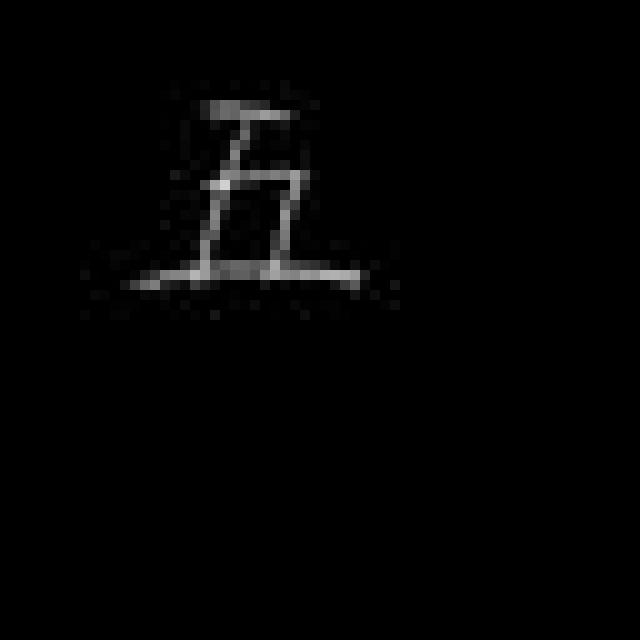5 -five-: (116, 82, 382, 320)
